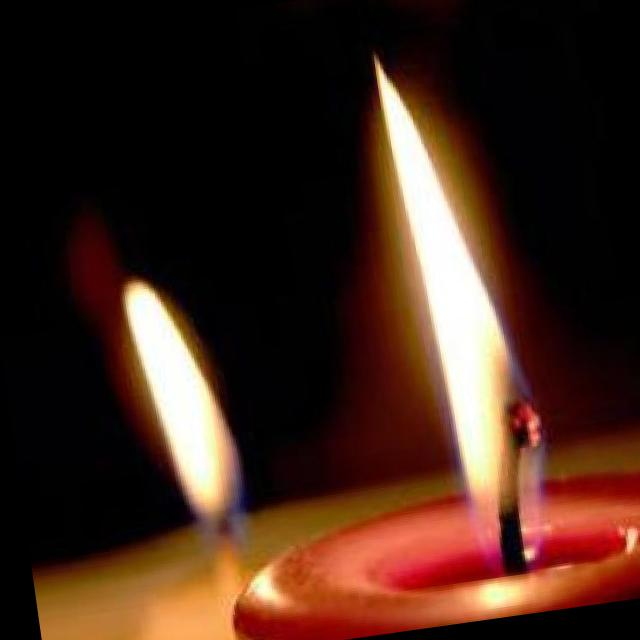Fire: (372, 41, 558, 570), (120, 270, 248, 526)
